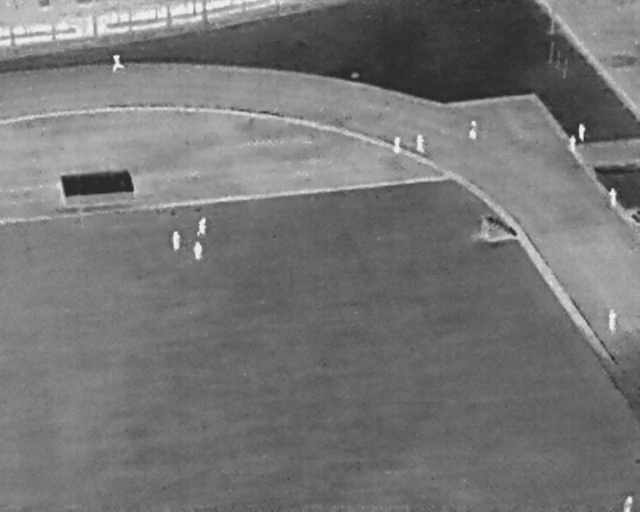Person: (112, 55, 125, 73), (608, 309, 617, 333), (197, 216, 207, 237), (171, 230, 181, 251), (193, 241, 203, 261), (468, 120, 478, 140), (416, 134, 425, 154), (622, 496, 633, 512), (578, 123, 586, 142), (609, 188, 617, 207), (393, 137, 401, 154), (568, 135, 576, 152)
